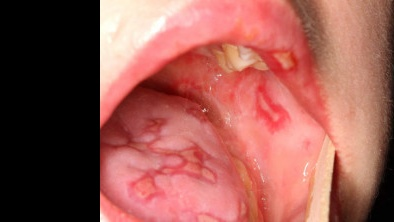SJS-TEN: (92, 84, 227, 222), (240, 83, 296, 136), (192, 196, 249, 222), (266, 45, 303, 76)
